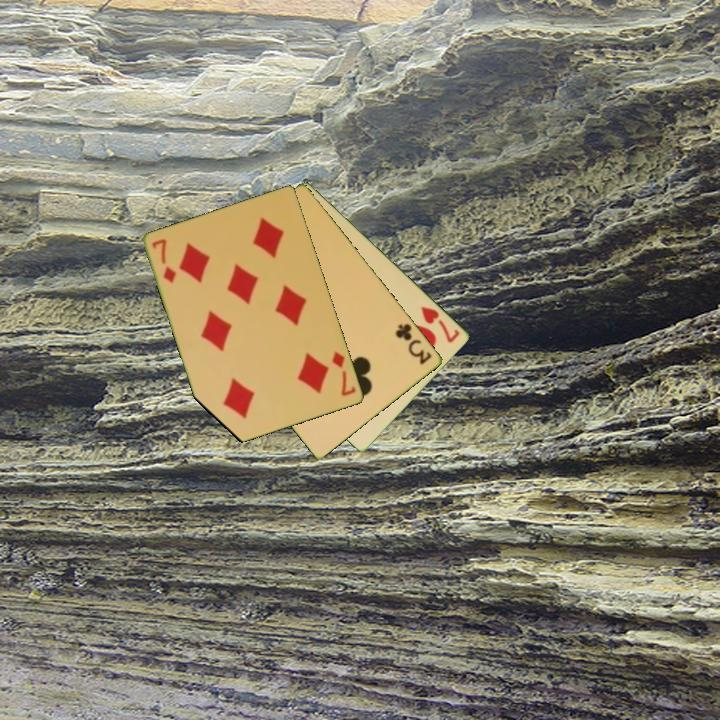3c: (392, 320, 435, 368)
7d: (329, 348, 359, 399), (149, 235, 179, 286)
7h: (417, 302, 463, 346)
